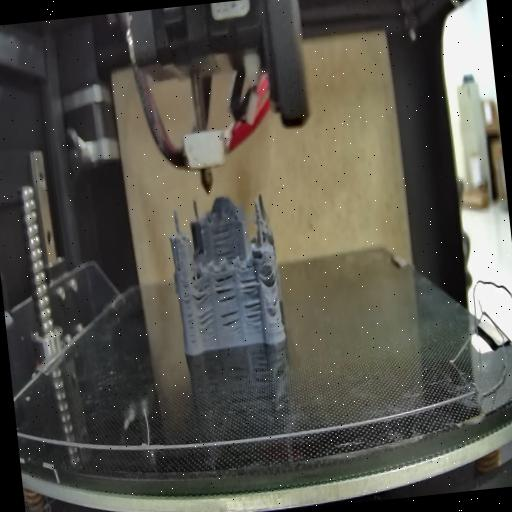cracks: (240, 276, 264, 335), (182, 282, 198, 348), (214, 274, 238, 306), (212, 226, 234, 257), (219, 306, 241, 336), (196, 308, 216, 336), (192, 280, 212, 306), (266, 297, 284, 319), (264, 270, 278, 288)
